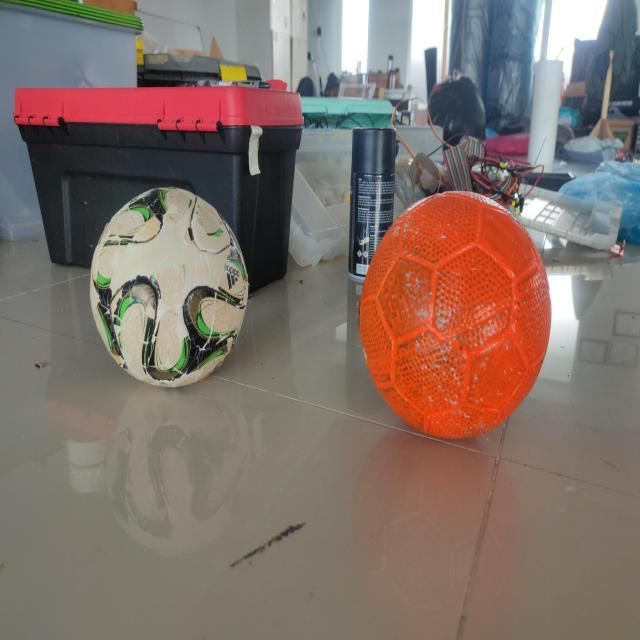bola: (360, 194, 560, 444)
